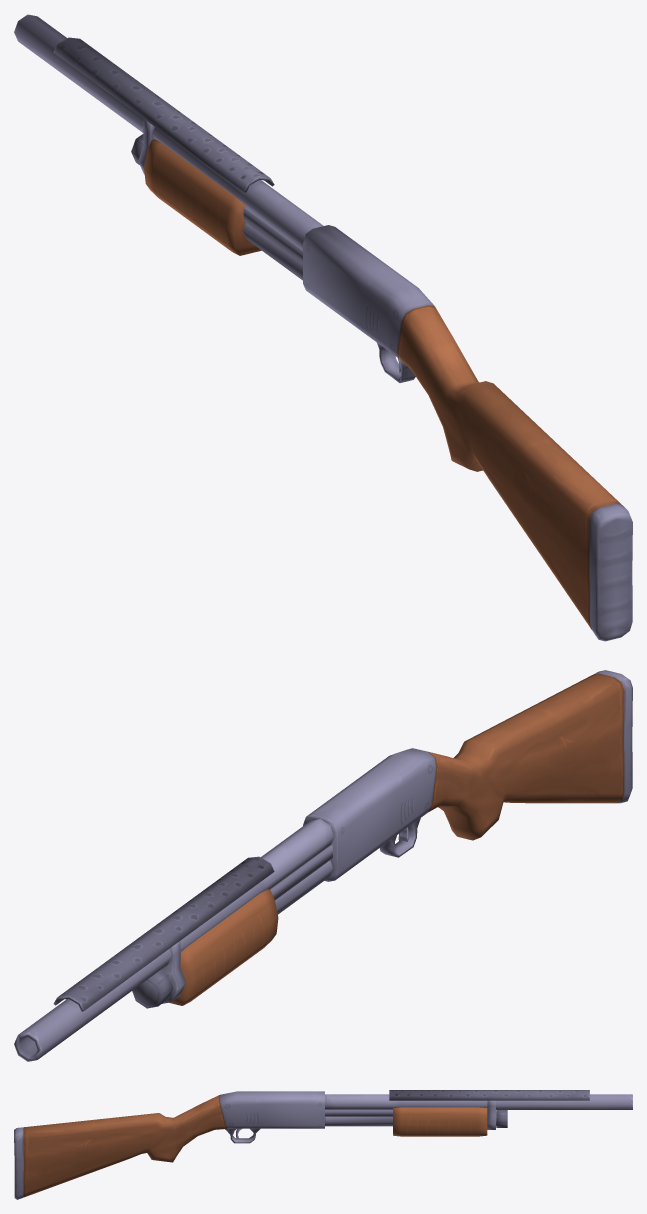
The picture shows the model from 3 angles, top to bottom: view 1: azimuth 30°, elevation 25°; view 2: azimuth 150°, elevation 25°; view 3: azimuth 270°, elevation 25°; orthographic projection. The views are drawn at different scales.
Parts seen in each view (by area): view 1: Shotgun, Pump; view 2: Shotgun, Pump; view 3: Shotgun, Pump.
Boxes of the visible parts, x1,y1,x2,y2 form: Shotgun: [14, 14, 632, 641]; Pump: [144, 139, 302, 263]; Shotgun: [14, 670, 632, 1061]; Pump: [169, 845, 332, 1005]; Shotgun: [14, 1090, 632, 1199]; Pump: [325, 1107, 487, 1136].
Bounding box in the file's own units: 4.42 × 19.11 × 100.
Materials: 1 (1 with a texture image).
